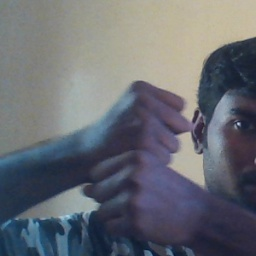G: (87, 75, 199, 245)
